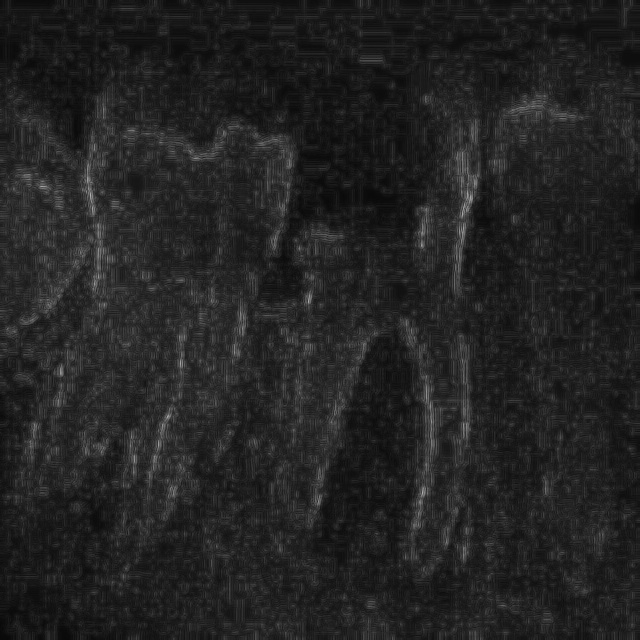cavity: (274, 73, 507, 601)
